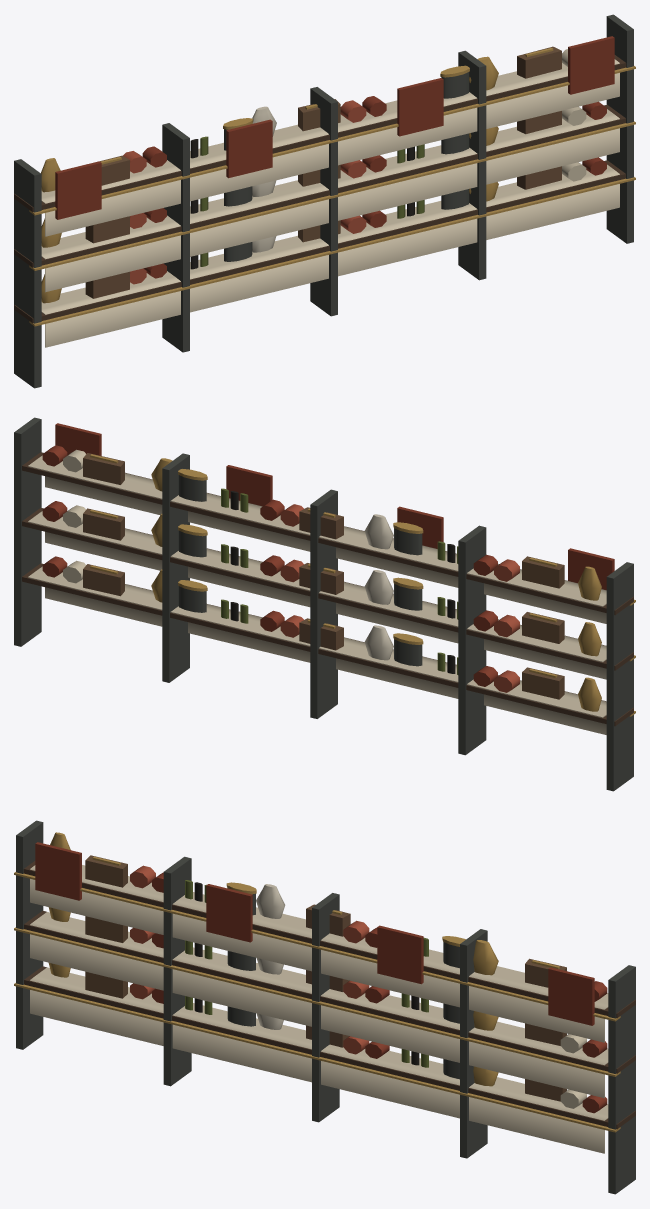
File: goods_shelf_general.glb
The picture shows the model from 3 angles, top to bottom: view 1: azimuth 30°, elevation 25°; view 2: azimuth 150°, elevation 25°; view 3: azimuth 330°, elevation 25°; orthographic projection.
Visible parts, largest first — view 1: goods_shelf_general; view 2: goods_shelf_general; view 3: goods_shelf_general.
Part boxes in pixels (bbox=[...]): goods_shelf_general: bbox=[14, 14, 635, 388]; goods_shelf_general: bbox=[14, 417, 635, 791]; goods_shelf_general: bbox=[14, 820, 635, 1194].
Bounding box in the file's own units: 6.8 × 2.3 × 0.435.
